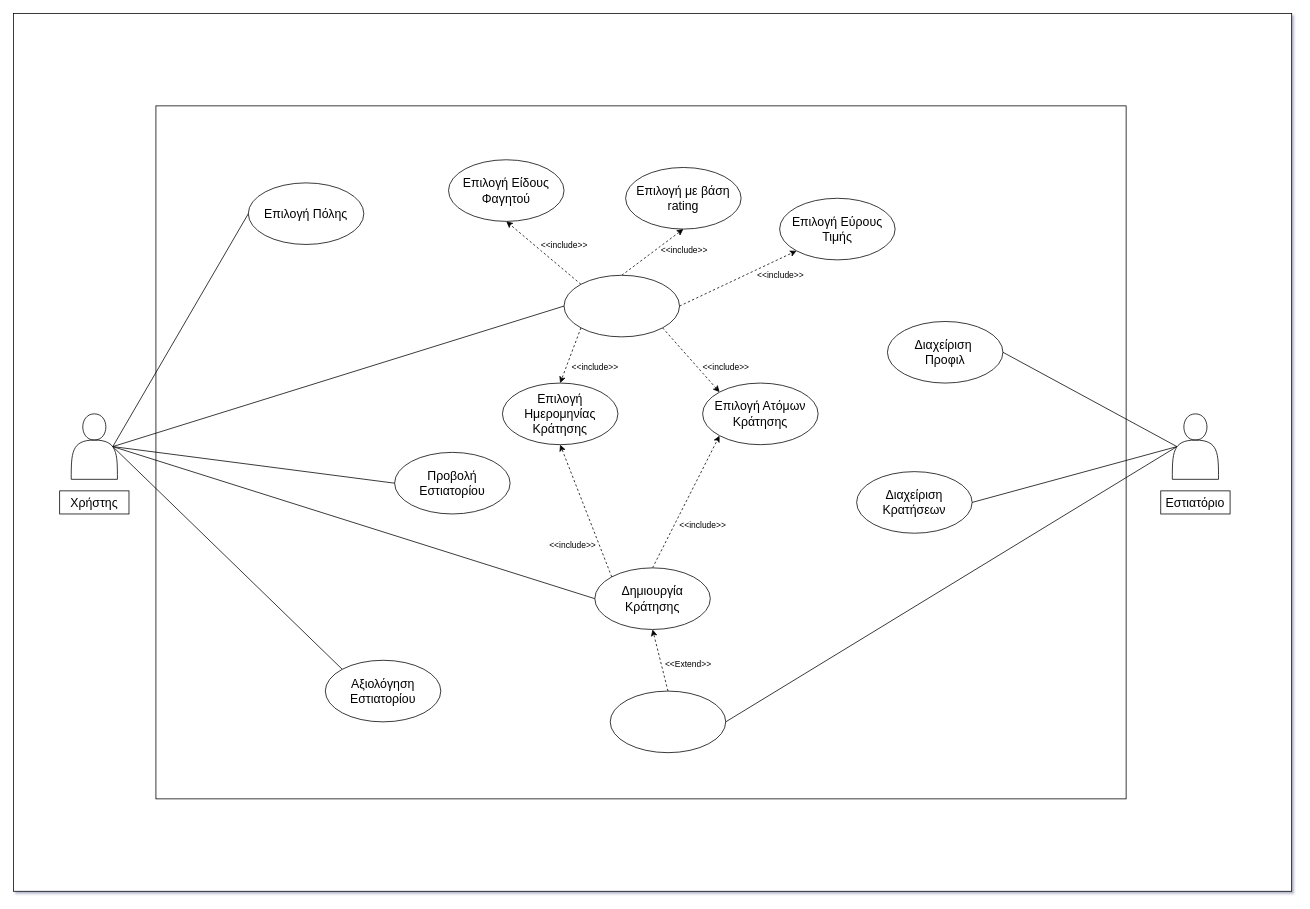
The diagram is 1310 pixels wide and 909 high, and some of its shapes have lost their labels. Here are the shapes that lost their labels. From the top down, the centre of each, then its label:
pixel 621 306: Αναζήτηση Εστιατορίων
pixel 667 721: Προπληρωμή Κράτησης
